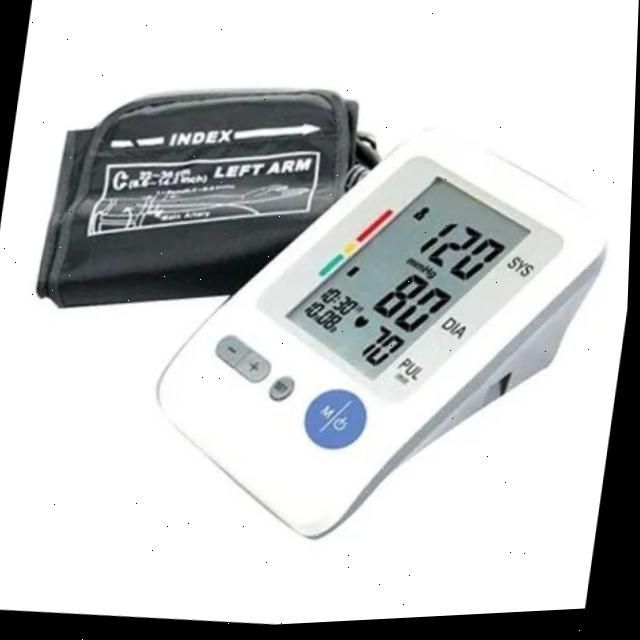dia: (362, 259, 462, 351)
pul: (343, 315, 417, 386)
ssd: (287, 156, 533, 400)
sys: (392, 197, 519, 307)
